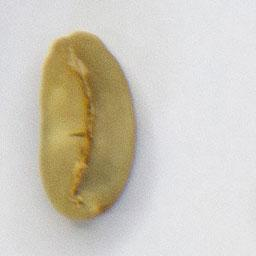longberry: (36, 27, 141, 224)
